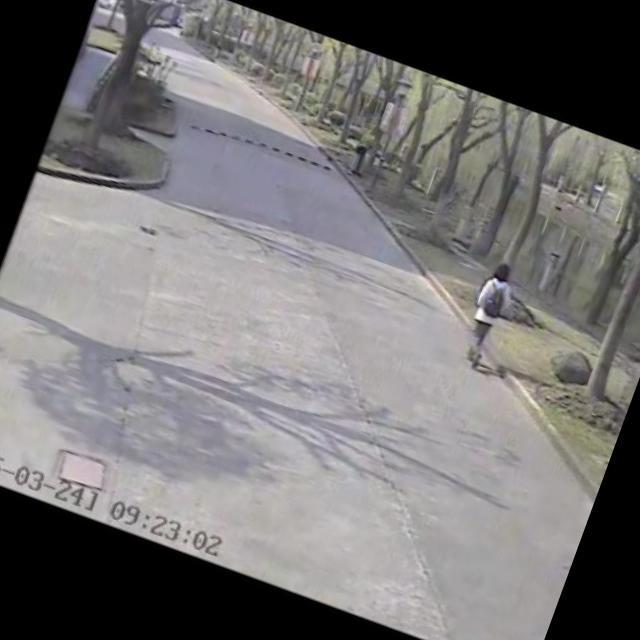person: (446, 246, 530, 380)
